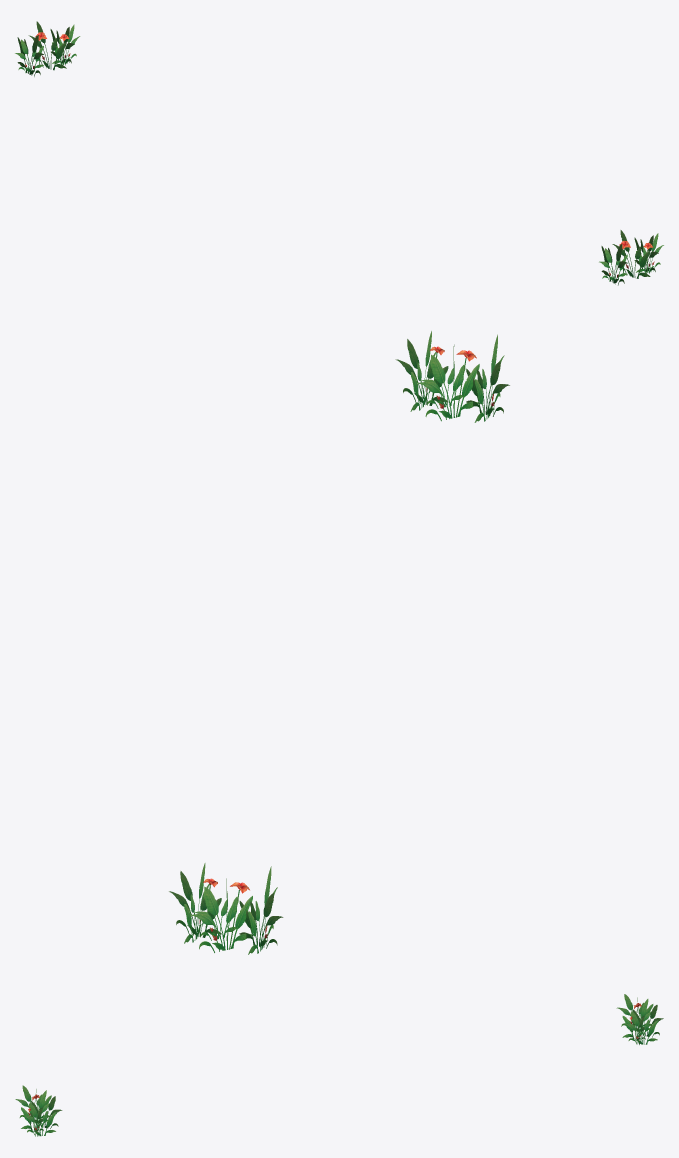
The model's file is area_11_14.fbx.
3 views of the same model, one above another, from view 1: azimuth 30°, elevation 25°; view 2: azimuth 150°, elevation 25°; view 3: azimuth 270°, elevation 25° (orthographic). The views are drawn at different scales.
Parts seen in each view (by area): view 1: area_11_14; view 2: area_11_14; view 3: area_11_14.
Part boxes in pixels (<box>): area_11_14: <box>15,21,663,285</box>; area_11_14: <box>169,331,509,954</box>; area_11_14: <box>15,994,663,1136</box>.
Size of the model in its own units: 10.46 by 1.55 by 24.12.
